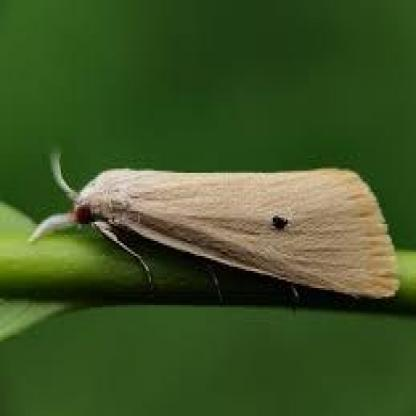stem-borer: (28, 162, 403, 304)
